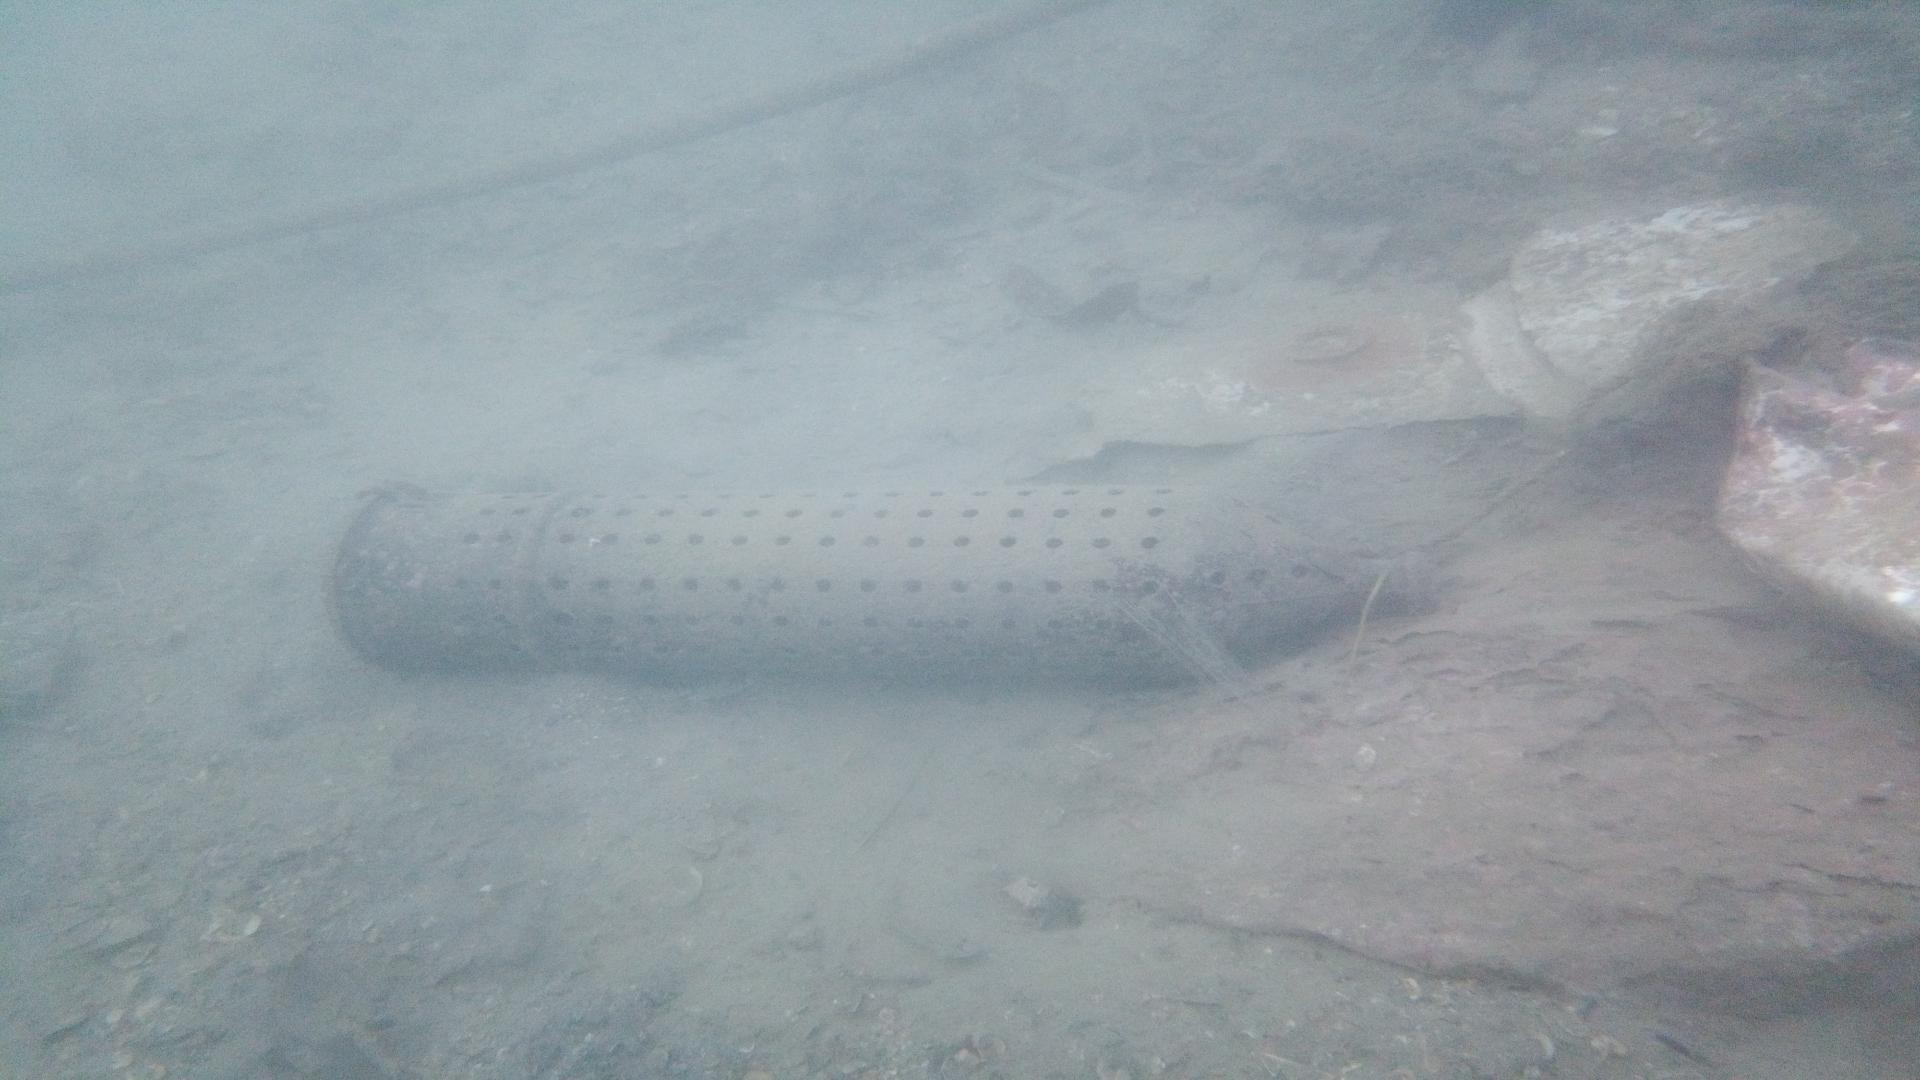eel fish trap: (318, 469, 1458, 683)
